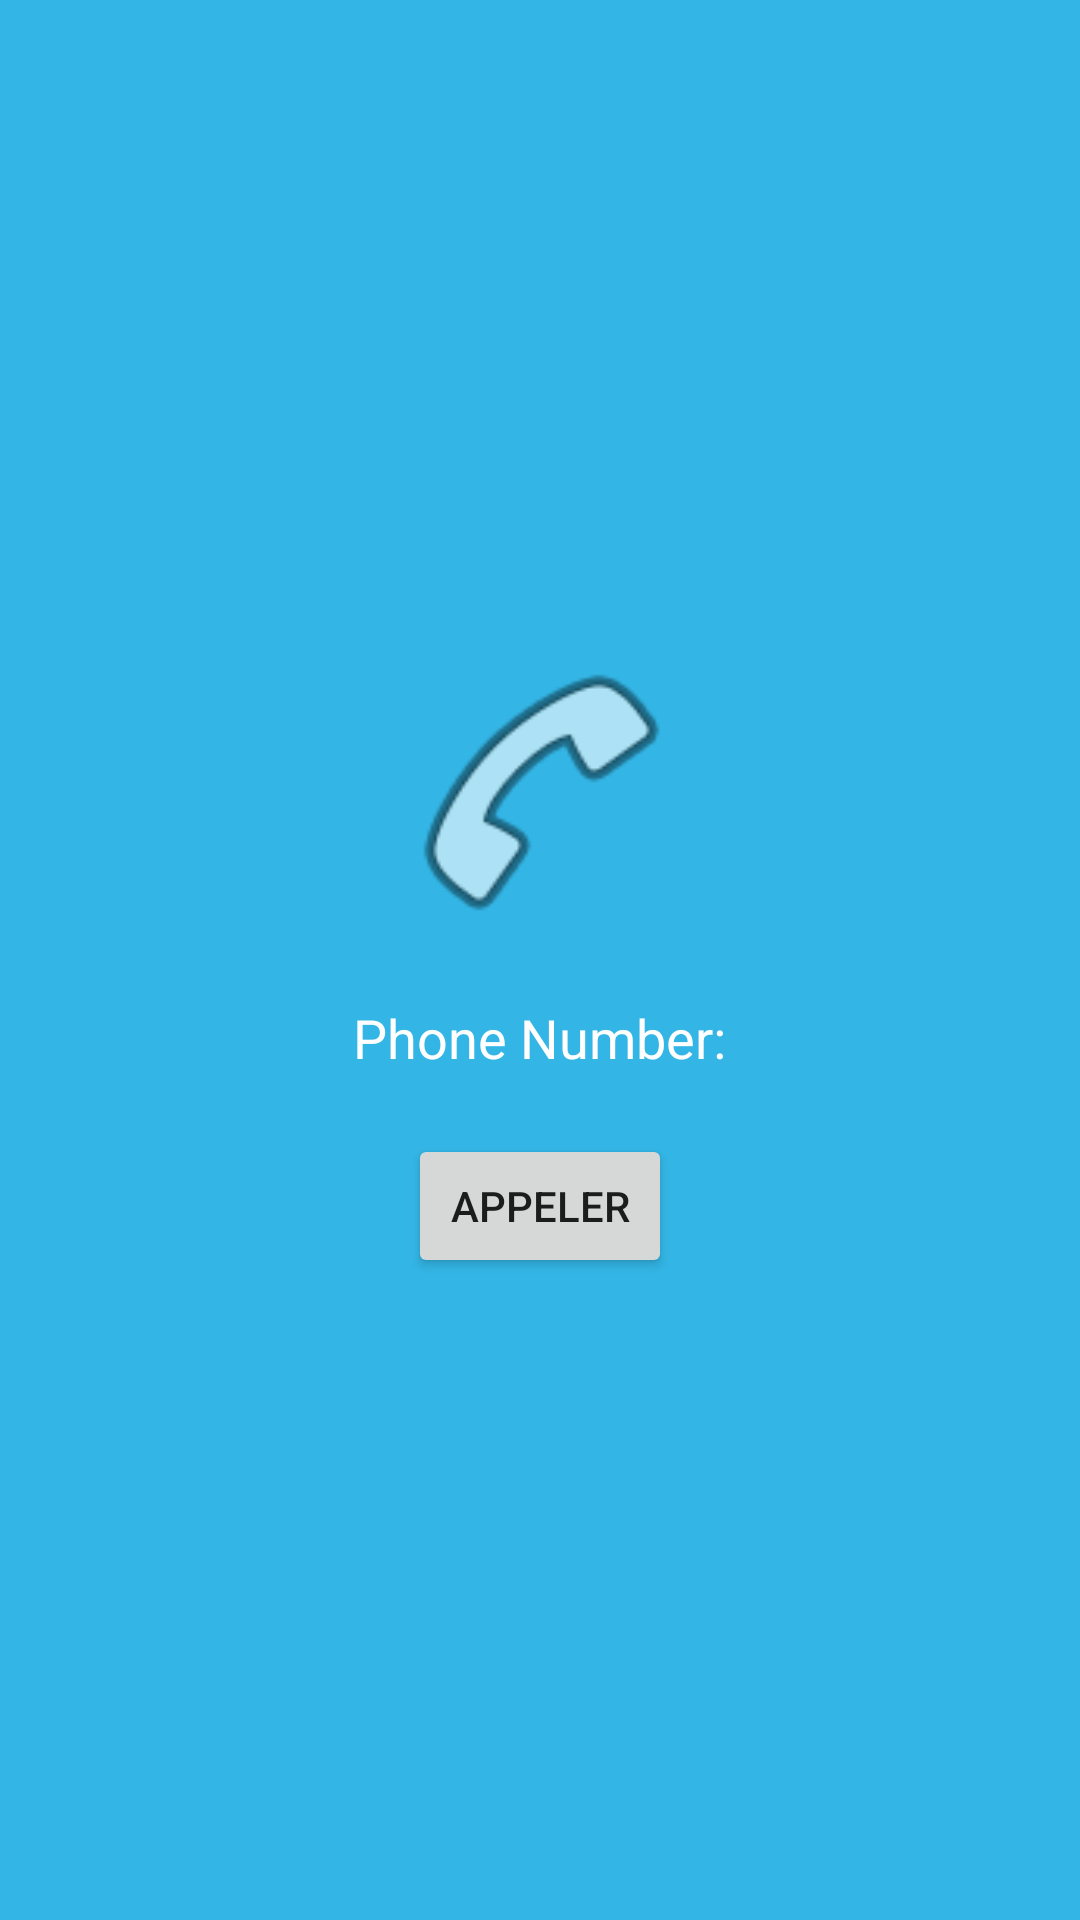

Icon click points for this 1080w x 1920h phone screenshot, format (x,y):
call: (541,792)
